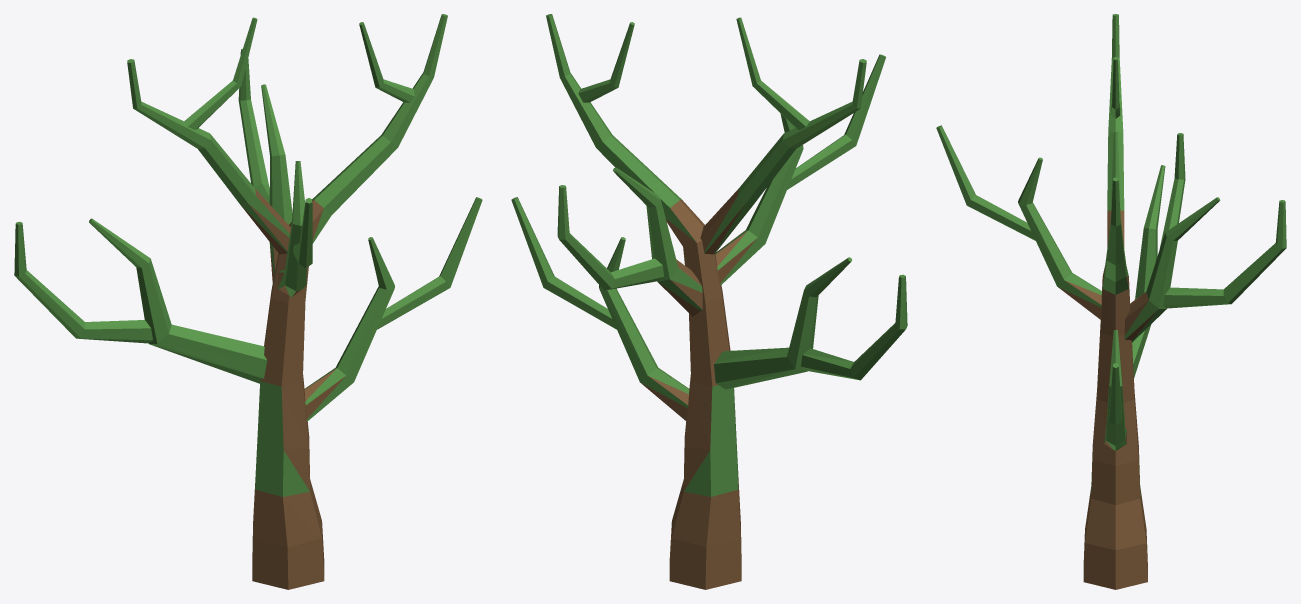
The model's file is tree3d-186.glb.
The picture shows the model from 3 angles, left to right: view 1: azimuth 30°, elevation 25°; view 2: azimuth 150°, elevation 25°; view 3: azimuth 270°, elevation 25°; orthographic projection. The views are drawn at different scales.
Parts seen in each view (by area): view 1: tree3d-186; view 2: tree3d-186; view 3: tree3d-186.
Boxes of the visible parts, x1,y1,x2,y2 form: tree3d-186: [14, 14, 482, 589]; tree3d-186: [511, 14, 907, 589]; tree3d-186: [936, 14, 1286, 589].
Bounding box in the file's own units: 0.8019 × 1 × 0.6325.
